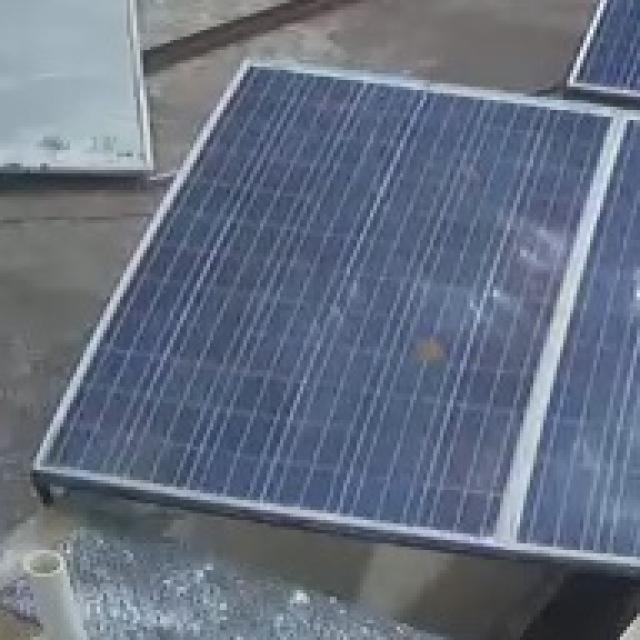Anomaly Solar Panel: (35, 59, 619, 544)
Surface Contaminant: (410, 332, 451, 370)
